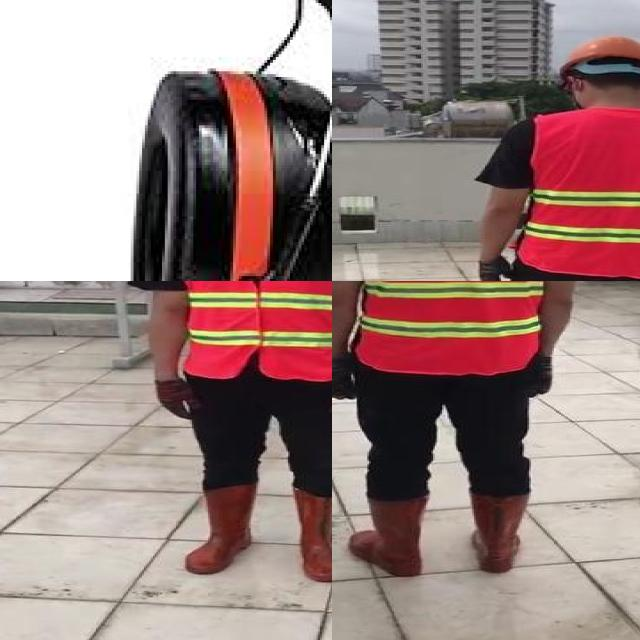Ear-protection: (164, 60, 332, 281)
boots: (348, 494, 431, 576), (183, 483, 254, 575), (469, 492, 531, 573), (290, 486, 332, 582)
hand_glove: (158, 376, 199, 421), (529, 357, 556, 398), (332, 356, 355, 400), (477, 257, 513, 281)
head_helmet: (557, 35, 640, 73)
person: (332, 281, 592, 582), (132, 281, 332, 599), (471, 31, 640, 281)
vest: (356, 281, 568, 375), (526, 111, 640, 275), (179, 281, 332, 382)
